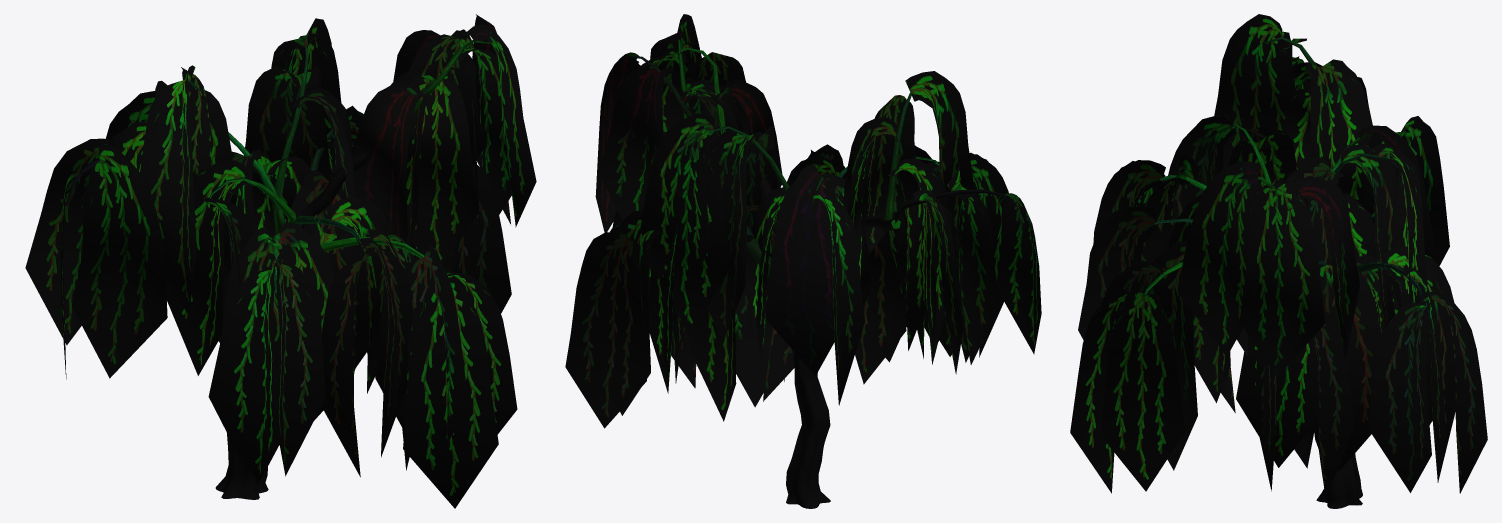
The model's file is willow.glb.
3 views of the same model, side by side, from view 1: azimuth 30°, elevation 25°; view 2: azimuth 150°, elevation 25°; view 3: azimuth 270°, elevation 25° (orthographic). The views are drawn at different scales.
Parts seen in each view (by area): view 1: tree.001; view 2: tree.001; view 3: tree.001.
Boxes of the visible parts, x1,y1,x2,y2 form: tree.001: [25, 14, 536, 508]; tree.001: [565, 14, 1041, 508]; tree.001: [1070, 14, 1487, 508].
Size of the model in its own units: 5.96 by 5.46 by 4.68.
2 materials, 2 textured.
